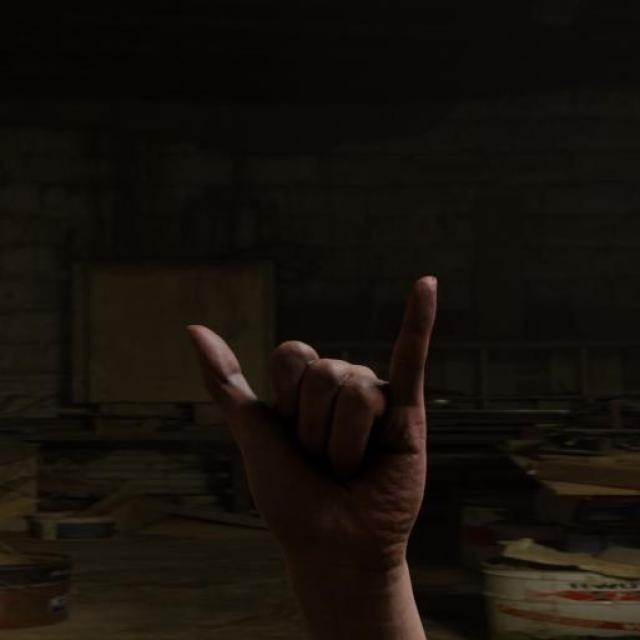Y: (153, 232, 468, 628)
